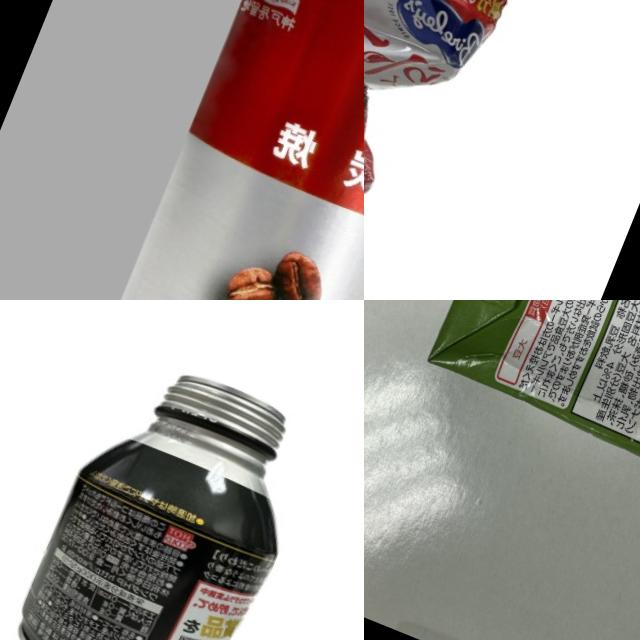Aluminium Foil: (423, 300, 640, 518)
Can: (0, 333, 351, 640), (49, 0, 364, 300), (364, 0, 561, 258)
